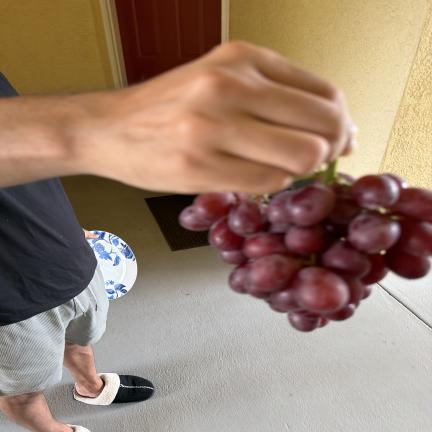grape_cluster: (179, 160, 432, 332)
